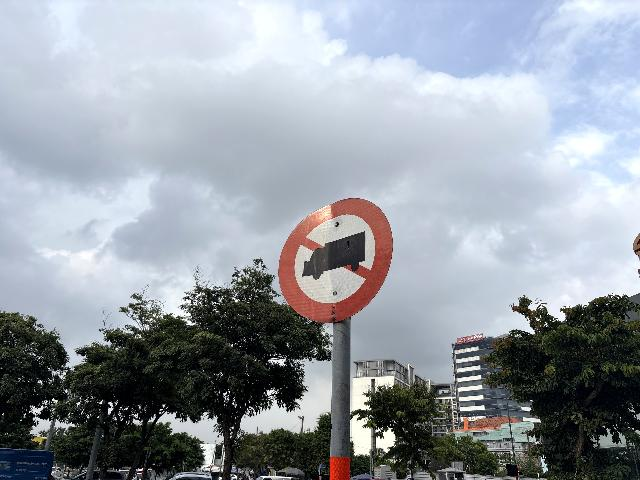cam-xe-tai: (279, 197, 392, 323)
